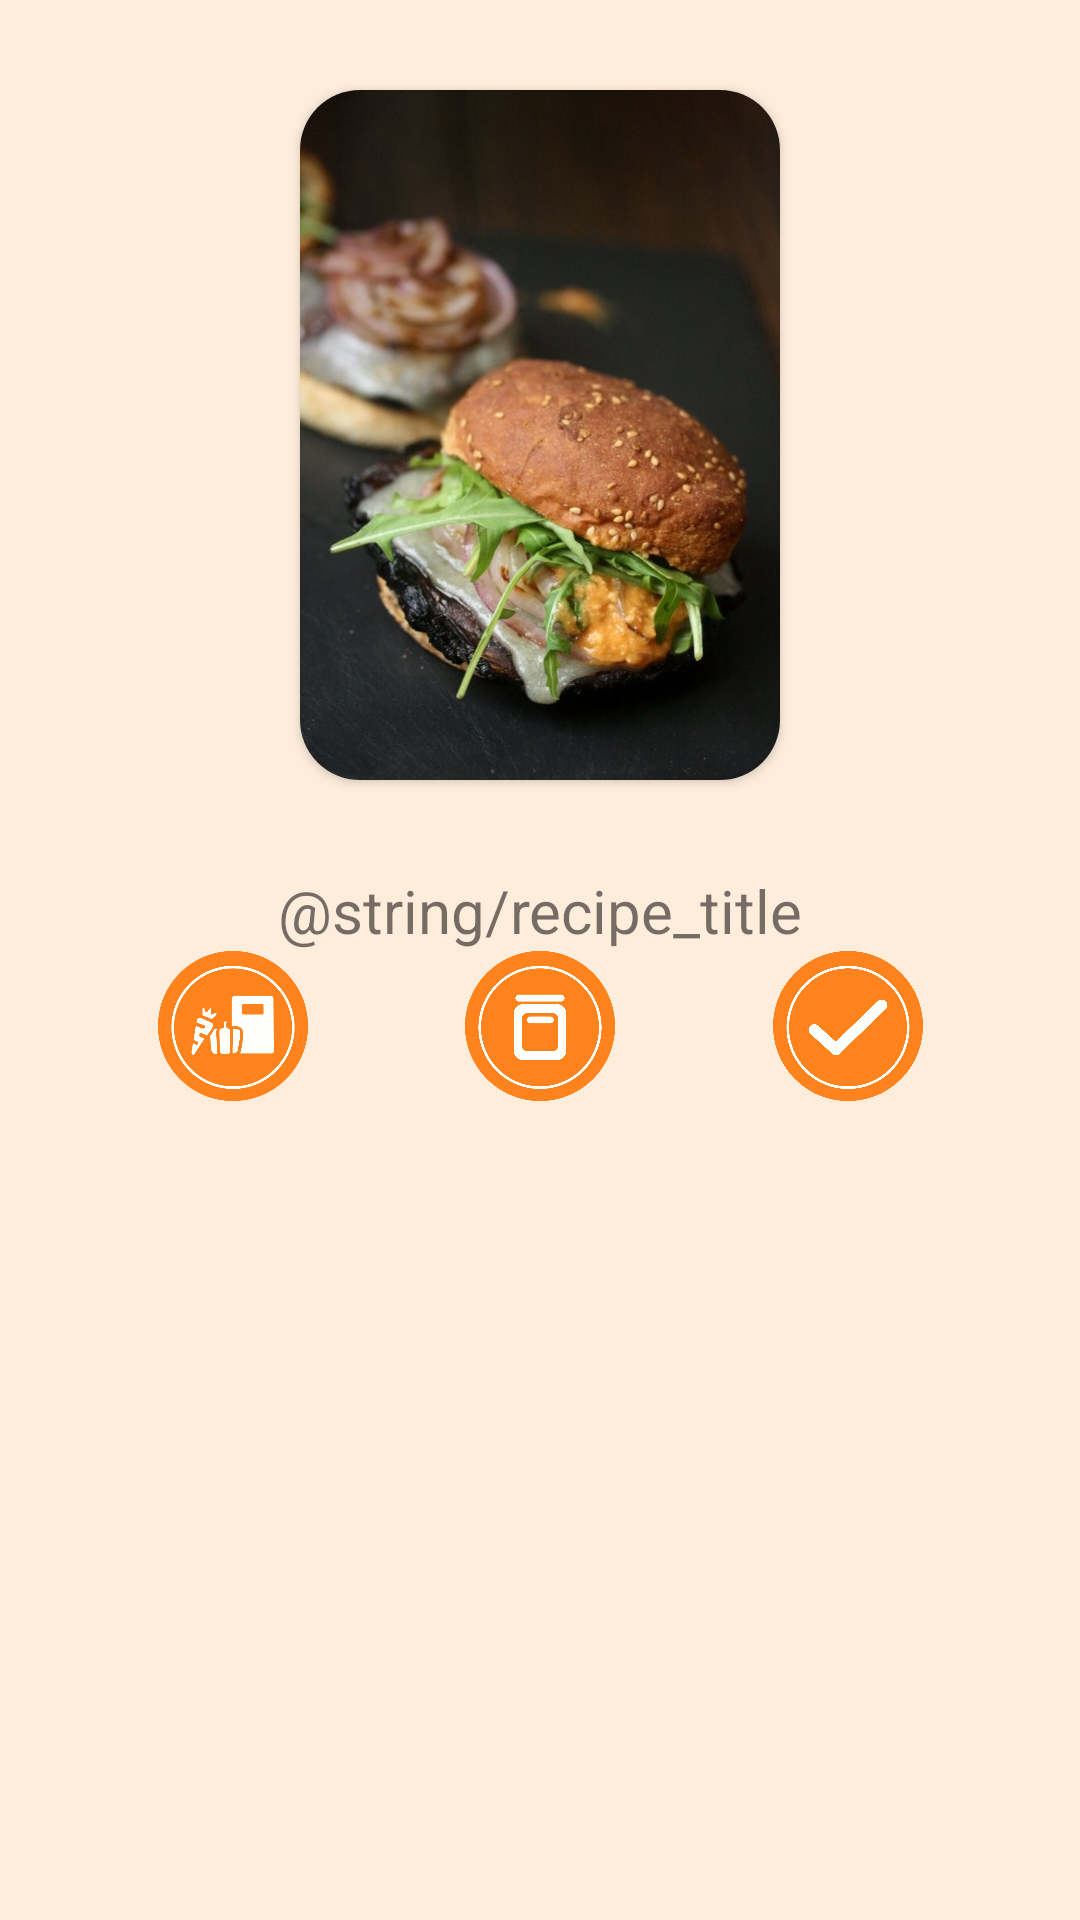

Icons on this 1080x1920 Android screen, each with its box as [x1=x1, y1=y1, x2=x2, y2=y2]:
preparation time: [x1=158, y1=951, x2=308, y2=1101]
ready in: [x1=773, y1=951, x2=923, y2=1101]
